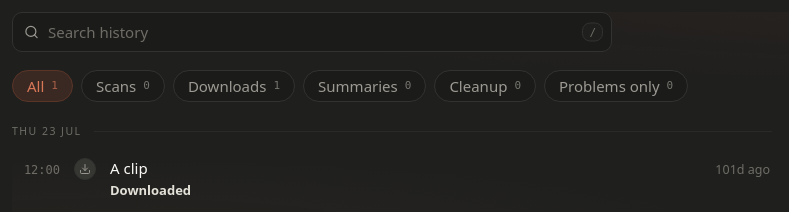
Test: History › says so when a filter matches nothing, rather than looking empty
Expected: the text "A clip" is shown, [110,158,148,178]
Click the button "Scans 0": (123, 86) [81,70,165,102]
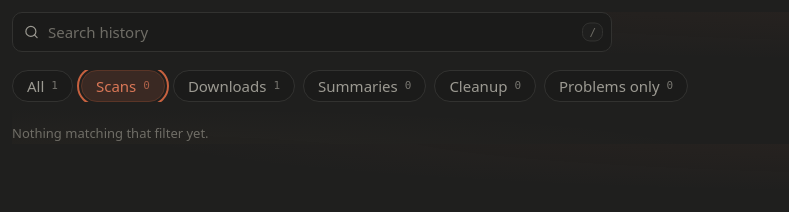
Now the text "Nothing matching that filter yet." is shown, box [12,124,209,142]
